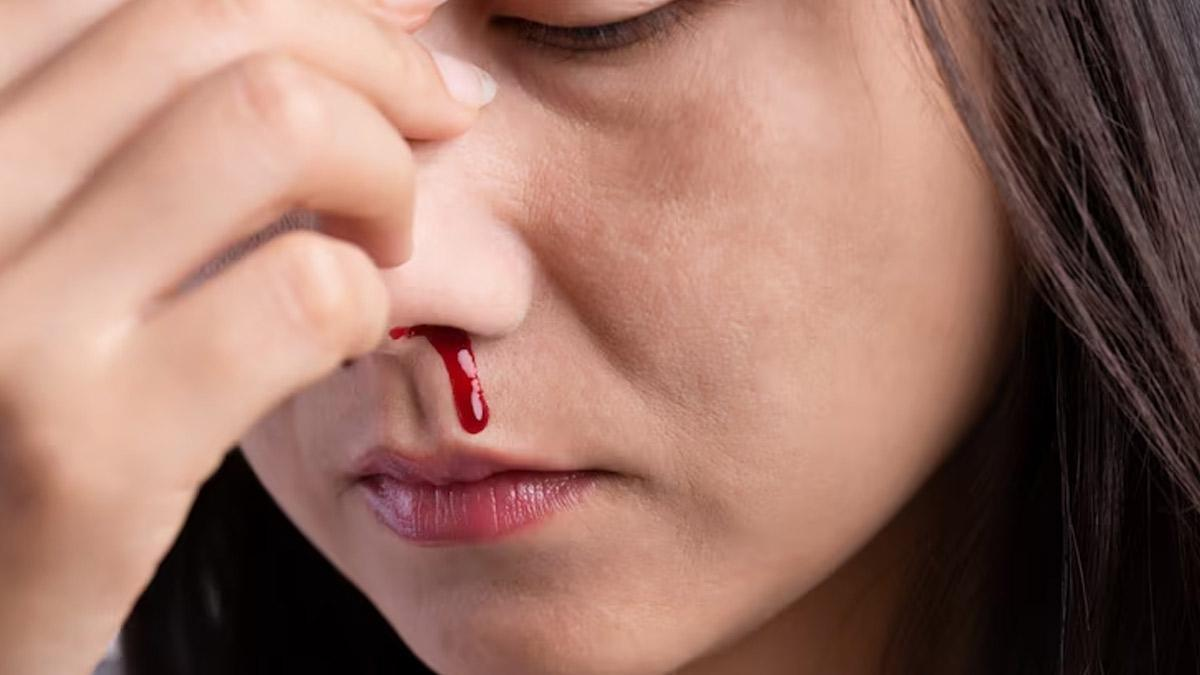Fire: (389, 324, 489, 434)
